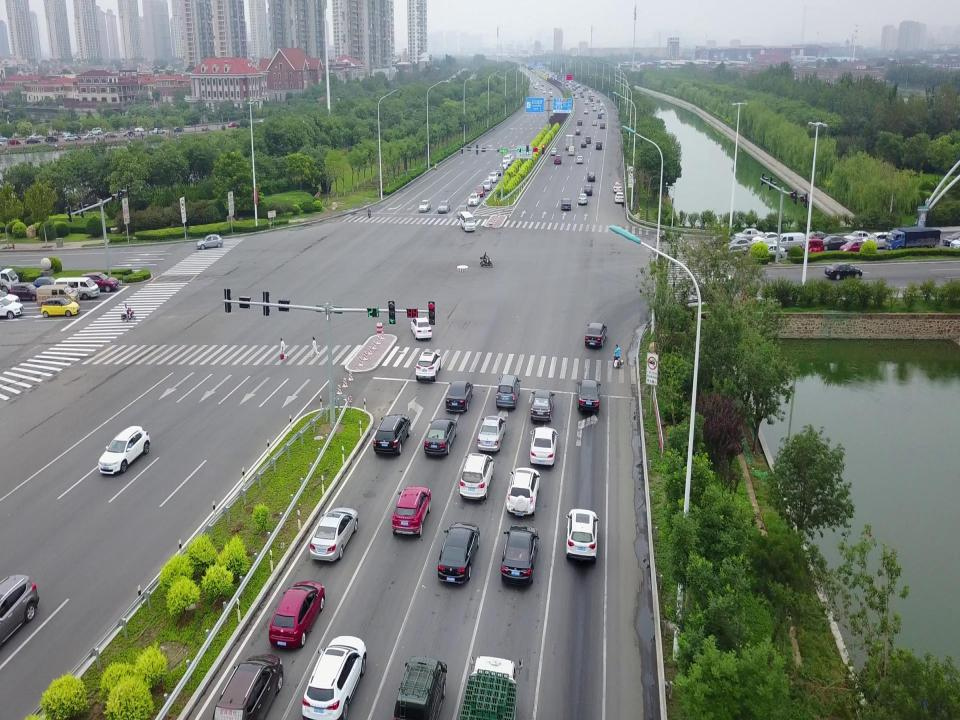car: (302, 635, 370, 720), (213, 653, 283, 720), (269, 581, 328, 650), (304, 503, 360, 563), (434, 520, 480, 588), (0, 570, 40, 646), (97, 422, 151, 476), (495, 522, 539, 585), (390, 484, 432, 541), (564, 505, 602, 566), (457, 449, 495, 501), (505, 465, 539, 520), (374, 410, 410, 458), (424, 418, 458, 458), (475, 414, 509, 450), (530, 426, 560, 466), (527, 388, 557, 421), (446, 379, 476, 412), (576, 377, 602, 414), (413, 350, 443, 382), (39, 296, 81, 318), (822, 261, 864, 282), (80, 272, 120, 291), (583, 321, 609, 349), (0, 296, 26, 321), (30, 276, 62, 296), (410, 316, 434, 341), (0, 287, 22, 309), (196, 233, 224, 250)
truck: (461, 648, 523, 720)
van: (388, 653, 448, 719), (54, 276, 99, 300), (34, 283, 80, 304), (9, 281, 45, 302)
